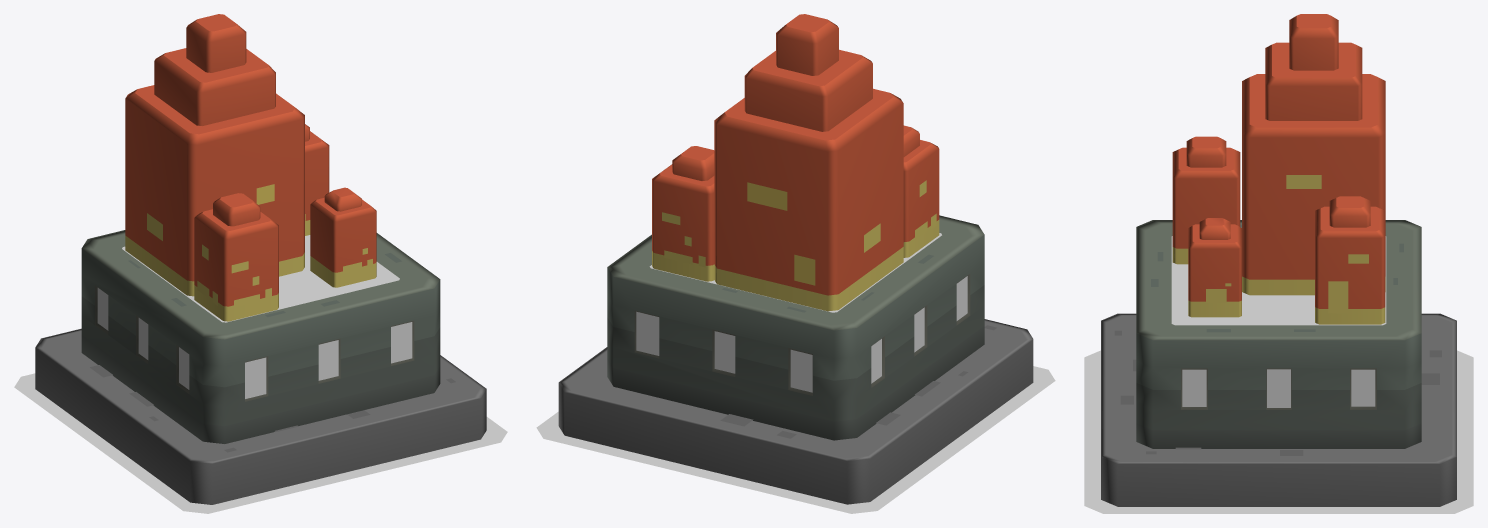
The model's file is MG_special_torch_01.fbx.
3 renders of one model, left to right at view 1: azimuth 30°, elevation 25°; view 2: azimuth 150°, elevation 25°; view 3: azimuth 270°, elevation 25°, orthographic. The views are drawn at different scales.
Visible parts, largest first — view 1: polySurface31, polySurface32, polySurface58, polySurface50, ground, polySurface59, polySurface37, polySurface66, polySurface67, polySurface61; view 2: polySurface31, polySurface32, polySurface37, ground, polySurface58, polySurface65, polySurface64, polySurface60; view 3: polySurface31, polySurface32, polySurface37, ground, polySurface58, polySurface50, polySurface59, polySurface68, polySurface69, polySurface62.
Boxes of the visible parts, x1=… form: polySurface31: x1=35, y1=230, x2=486, y2=504; polySurface32: x1=125, y1=14, x2=304, y2=296; polySurface58: x1=194, y1=193, x2=278, y2=321; polySurface50: x1=310, y1=187, x2=376, y2=287; ground: x1=14, y1=373, x2=507, y2=513; polySurface59: x1=122, y1=235, x2=399, y2=322; polySurface37: x1=305, y1=124, x2=329, y2=235; polySurface66: x1=245, y1=357, x2=266, y2=398; polySurface67: x1=391, y1=322, x2=412, y2=363; polySurface61: x1=318, y1=340, x2=338, y2=380; polySurface31: x1=558, y1=215, x2=1033, y2=504; polySurface32: x1=714, y1=14, x2=903, y2=311; polySurface37: x1=652, y1=146, x2=714, y2=281; ground: x1=536, y1=366, x2=1055, y2=513; polySurface58: x1=903, y1=125, x2=939, y2=257; polySurface65: x1=636, y1=311, x2=659, y2=355; polySurface64: x1=790, y1=349, x2=812, y2=392; polySurface60: x1=714, y1=331, x2=735, y2=373; polySurface31: x1=1101, y1=220, x2=1456, y2=506; polySurface32: x1=1242, y1=14, x2=1385, y2=295; polySurface37: x1=1315, y1=196, x2=1385, y2=324; ground: x1=1084, y1=350, x2=1473, y2=513; polySurface58: x1=1172, y1=136, x2=1240, y2=264; polySurface50: x1=1188, y1=218, x2=1241, y2=317; polySurface59: x1=1171, y1=236, x2=1386, y2=325; polySurface68: x1=1182, y1=369, x2=1206, y2=406; polySurface69: x1=1351, y1=369, x2=1375, y2=406; polySurface62: x1=1267, y1=369, x2=1290, y2=407.
Size of the model in its own units: 3.28 by 3.69 by 3.28.
